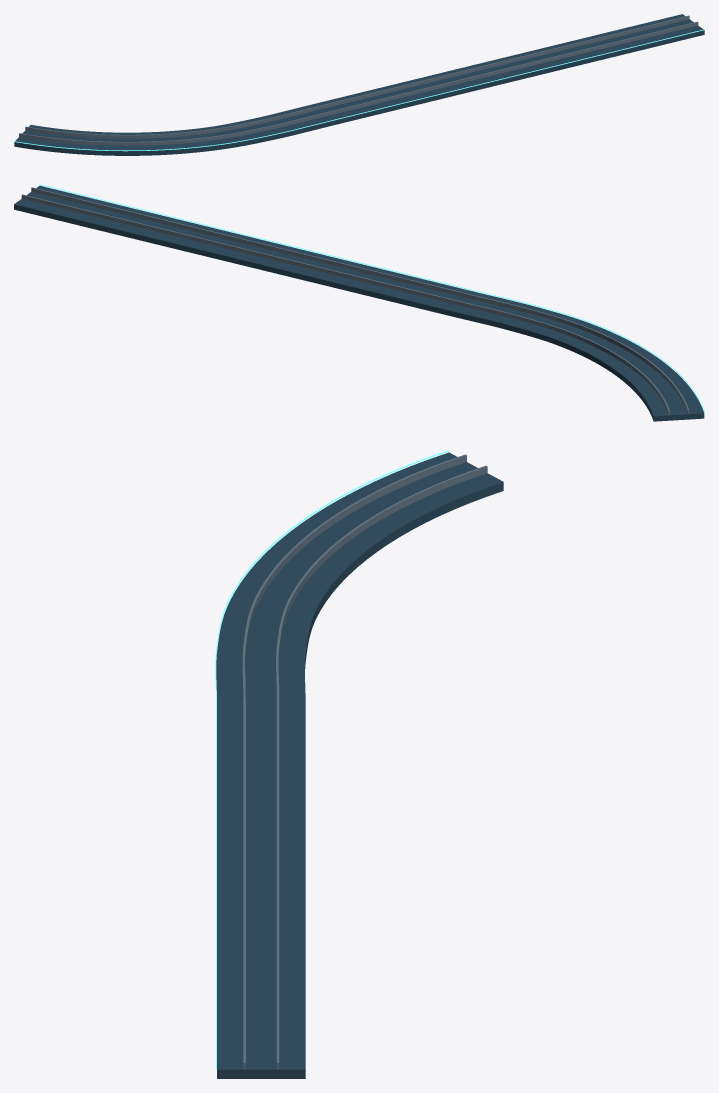
File: track_chunk_07.glb
3 views of the same model, one above another, from view 1: azimuth 30°, elevation 25°; view 2: azimuth 150°, elevation 25°; view 3: azimuth 270°, elevation 25° (orthographic). The views are drawn at different scales.
Visible parts, largest first — view 1: deck_7, rail_left_7, rail_right_7, edge_light_7; view 2: deck_7, rail_left_7, rail_right_7, edge_light_7; view 3: deck_7, rail_right_7, rail_left_7, edge_light_7.
Boxes of the visible parts, box(x1,y1,x2,y2) form: deck_7: box(14, 14, 704, 155); rail_left_7: box(19, 21, 698, 145); rail_right_7: box(25, 15, 689, 138); edge_light_7: box(14, 29, 704, 151); deck_7: box(14, 185, 704, 421); rail_left_7: box(31, 187, 689, 414); rail_right_7: box(21, 194, 670, 415); edge_light_7: box(39, 184, 704, 412); deck_7: box(216, 452, 503, 1078); rail_right_7: box(276, 465, 487, 1069); rail_left_7: box(242, 454, 466, 1069); edge_light_7: box(215, 450, 448, 1068).
Bounding box in the file's own units: 62.65 × 0.7464 × 12.37.
